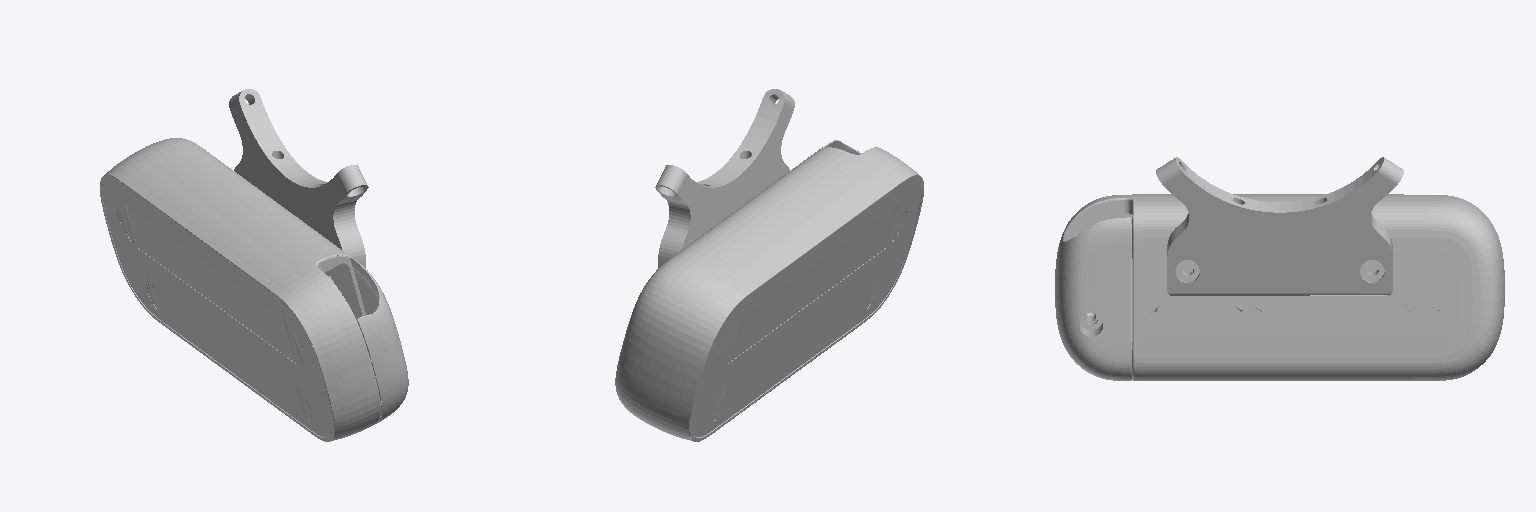
File: left_arm_camera_flange_link.obj
3 views of the same model, side by side, from view 1: azimuth 30°, elevation 25°; view 2: azimuth 150°, elevation 25°; view 3: azimuth 270°, elevation 25° (orthographic).
Parts seen in each view (by area): view 1: default; view 2: default; view 3: default.
Boxes of the visible parts, <box> form: default: <box>100,89,408,441</box>; default: <box>615,89,923,441</box>; default: <box>1055,157,1504,380</box>.
Bounding box in the file's own units: 0.0327 × 0.0637 × 0.1097.